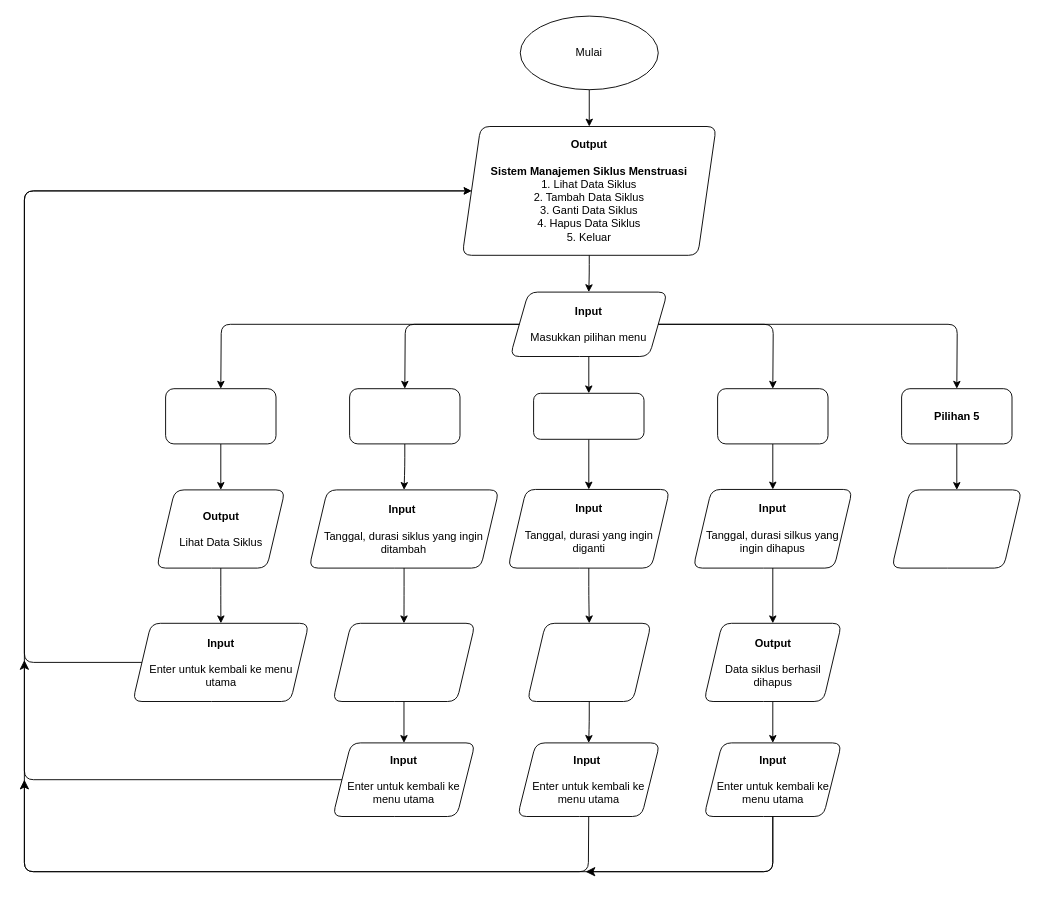
The diagram is 1039 pixels wide and 897 high, and some of its shapes have lost their labels. Here are the shapes that lost their labels. From the top down, the centre of each, then its label:
At pixel 220 416: "Pilihan 1".
At pixel 404 416: "Pilihan 2".
At pixel 588 415: "Pilihan 3".
At pixel 772 416: "Pilihan 4".
At pixel 956 528: "Output Keluar".
At pixel 403 662: "Output Data silkus berhasil ditambah".
At pixel 588 662: "Output Data silkus berhasil diperbarui".
